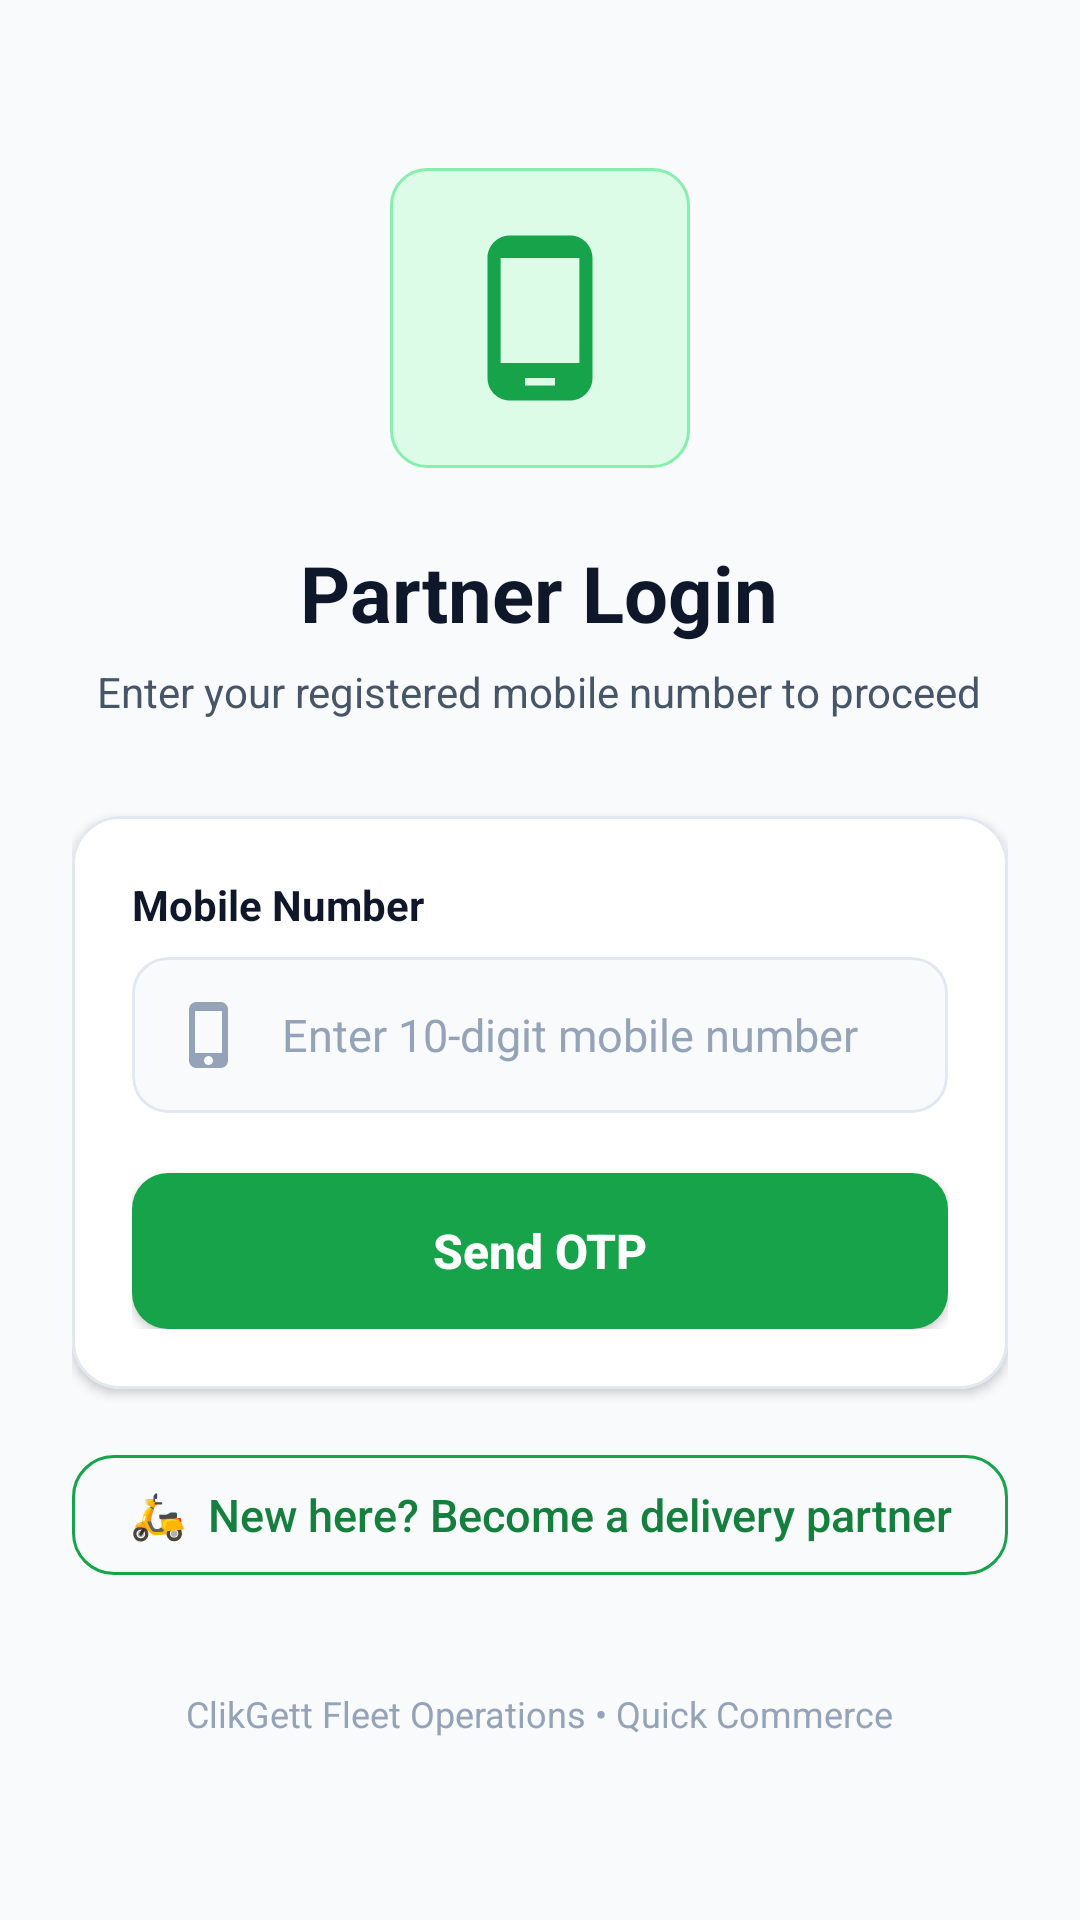

Locate icon controls on the screen. Image size 1080px x 1920px, boxes as (x1, y1, x2, y2).
phone android: (487, 235, 593, 401)
